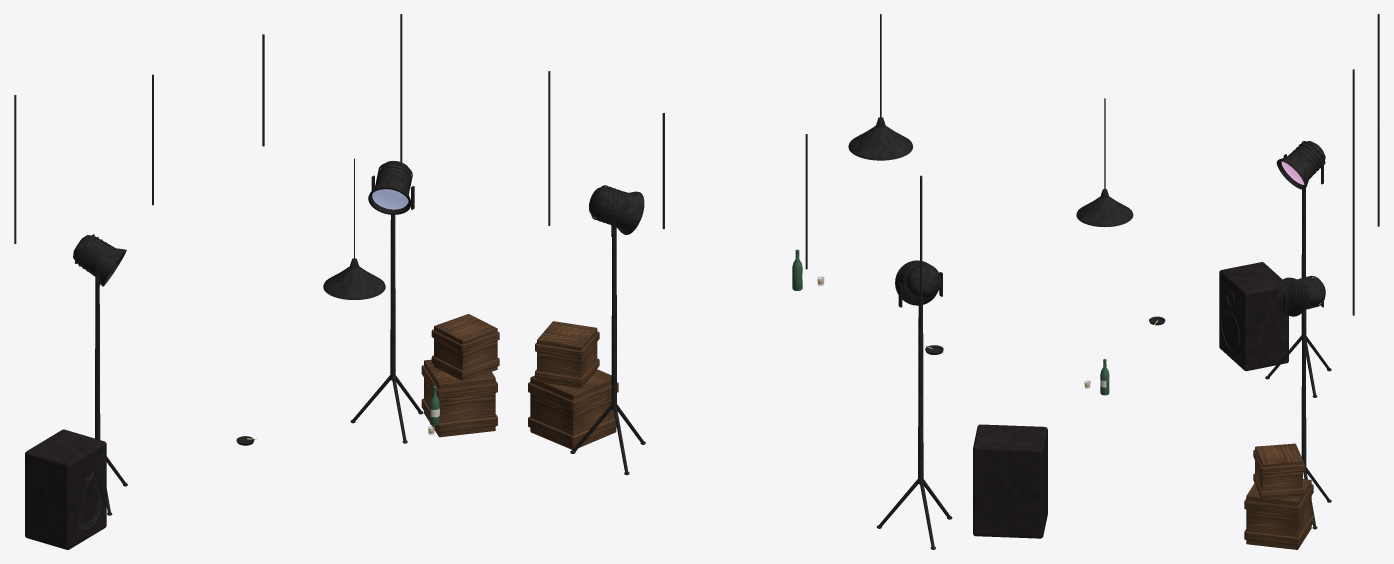
File: props.glb
3 renders of one model, left to right at view 1: azimuth 30°, elevation 25°; view 2: azimuth 150°, elevation 25°; view 3: azimuth 270°, elevation 25°, orthographic. The views are drawn at different scales.
Parts seen in each view (by area): view 1: Lautsprecher, Kiste_0, Kiste_1, Stativ_R, Scheinwerfer_L, Lampenschirm, Scheinwerfer_R, Stativ_L, Linse_R; view 2: Lautsprecher, Kiste_0, Kiste_1, Stativ_L, Scheinwerfer_R, Stativ_R, Lampenschirm, Scheinwerfer_L; view 3: Lautsprecher, Kiste_0, Kiste_1, Scheinwerfer_R, Scheinwerfer_L, Lampenschirm, Stativ_R, Stativ_L, Deckenkabel_3, Lautsprecher_Membran.
Boxes of the visible parts, x1,y1,x2,y2 form: Lautsprecher: [25, 429, 106, 549]; Kiste_0: [421, 359, 497, 437]; Kiste_1: [431, 314, 499, 380]; Stativ_R: [350, 175, 423, 443]; Scheinwerfer_L: [73, 234, 126, 286]; Lampenschirm: [323, 266, 385, 299]; Scheinwerfer_R: [368, 160, 412, 214]; Stativ_L: [95, 263, 127, 515]; Linse_R: [372, 189, 408, 209]; Lautsprecher: [973, 424, 1047, 538]; Kiste_0: [528, 369, 618, 449]; Kiste_1: [535, 321, 599, 388]; Stativ_L: [876, 272, 952, 549]; Scheinwerfer_R: [589, 185, 644, 234]; Stativ_R: [570, 213, 645, 475]; Lampenschirm: [848, 125, 912, 160]; Scheinwerfer_L: [895, 260, 941, 305]; Lautsprecher: [1219, 262, 1288, 371]; Kiste_0: [1244, 479, 1313, 549]; Kiste_1: [1253, 443, 1304, 501]; Scheinwerfer_R: [1276, 275, 1325, 316]; Scheinwerfer_L: [1276, 141, 1325, 189]; Lampenschirm: [1076, 196, 1133, 226]; Stativ_R: [1283, 294, 1331, 529]; Stativ_L: [1265, 154, 1331, 397]; Deckenkabel_3: [1352, 179, 1354, 315]; Lautsprecher_Membran: [1221, 290, 1239, 351].
Bounding box in the file's own units: 4.03 × 3.1 × 2.44.
Materials: 16 (5 with a texture image).
